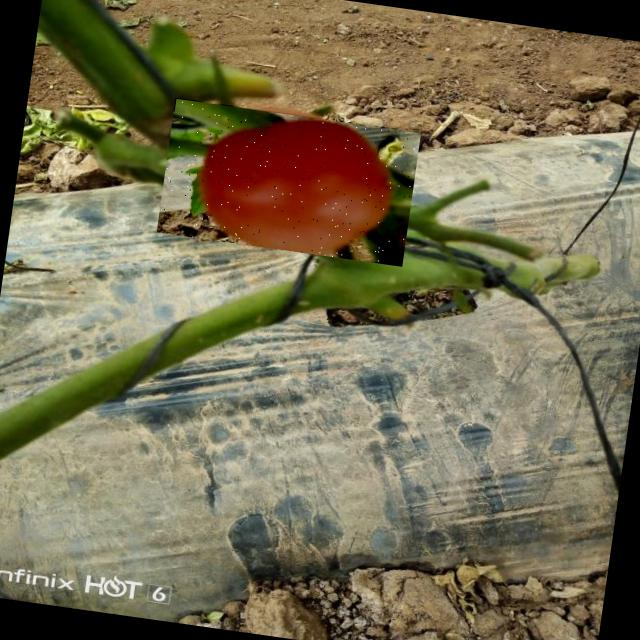Ripe Tomato: (157, 98, 422, 267)
